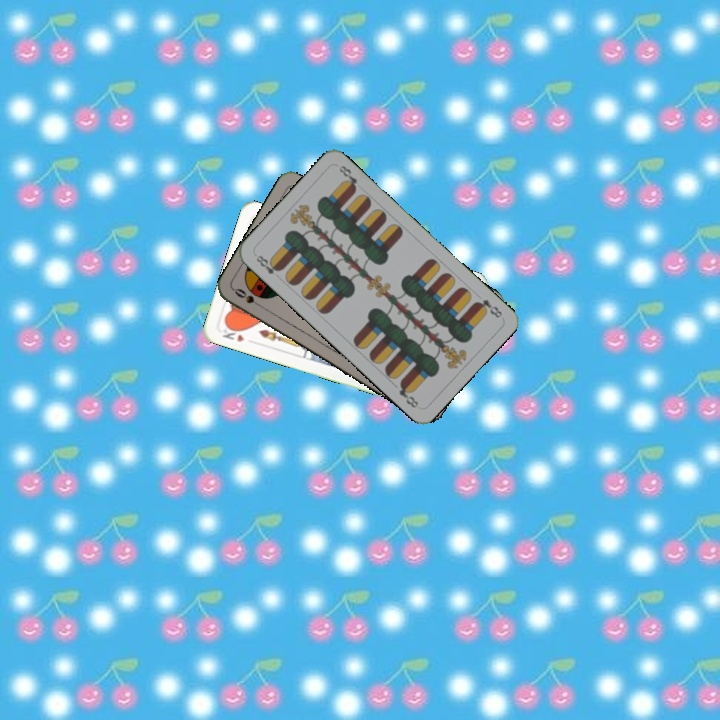E8: (470, 295, 505, 321), (252, 251, 284, 277)
HK: (218, 322, 247, 345)
SO: (230, 284, 267, 312)
